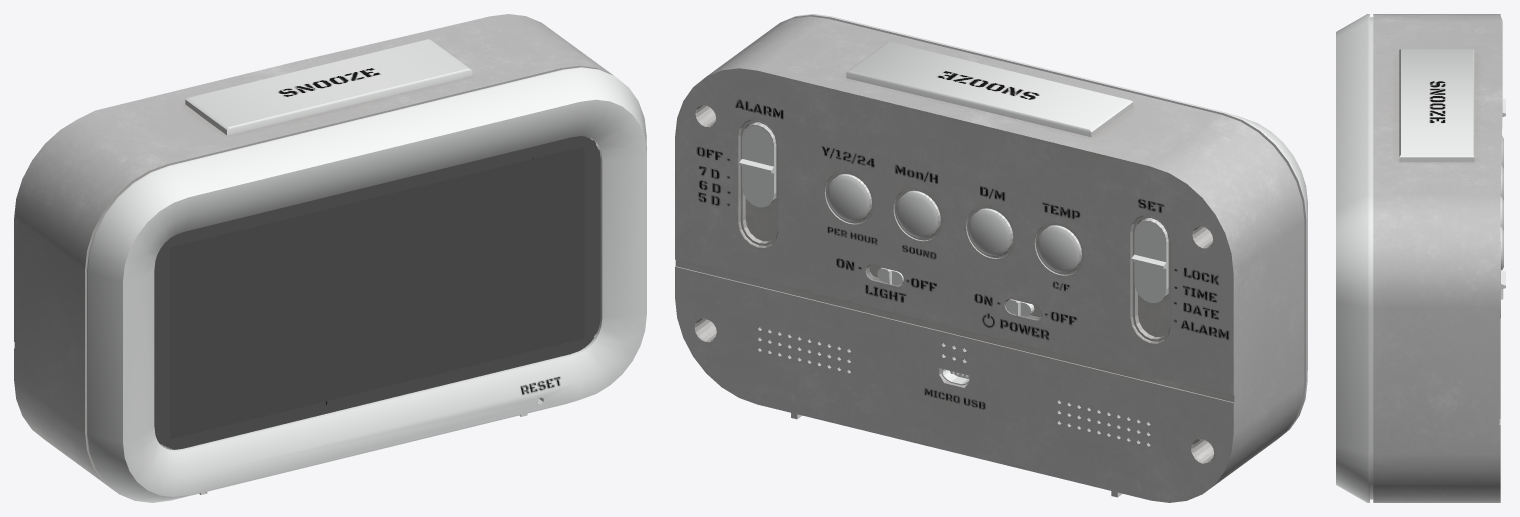
File: digital_alarm_clock.glb
3 views of the same model, side by side, from view 1: azimuth 30°, elevation 25°; view 2: azimuth 150°, elevation 25°; view 3: azimuth 270°, elevation 25° (orthographic). The views are drawn at different scales.
Visible parts, largest first — view 1: Clock, Plane; view 2: Clock; view 3: Clock.
Part boxes in pixels (x1,y1,x2,y2): Clock: (14,14,646,502); Plane: (170,146,584,439); Clock: (675,14,1307,502); Clock: (1336,14,1505,502).
Bounding box in the file's own units: 14 × 8.29 × 4.11.
2 materials, 1 textured.
